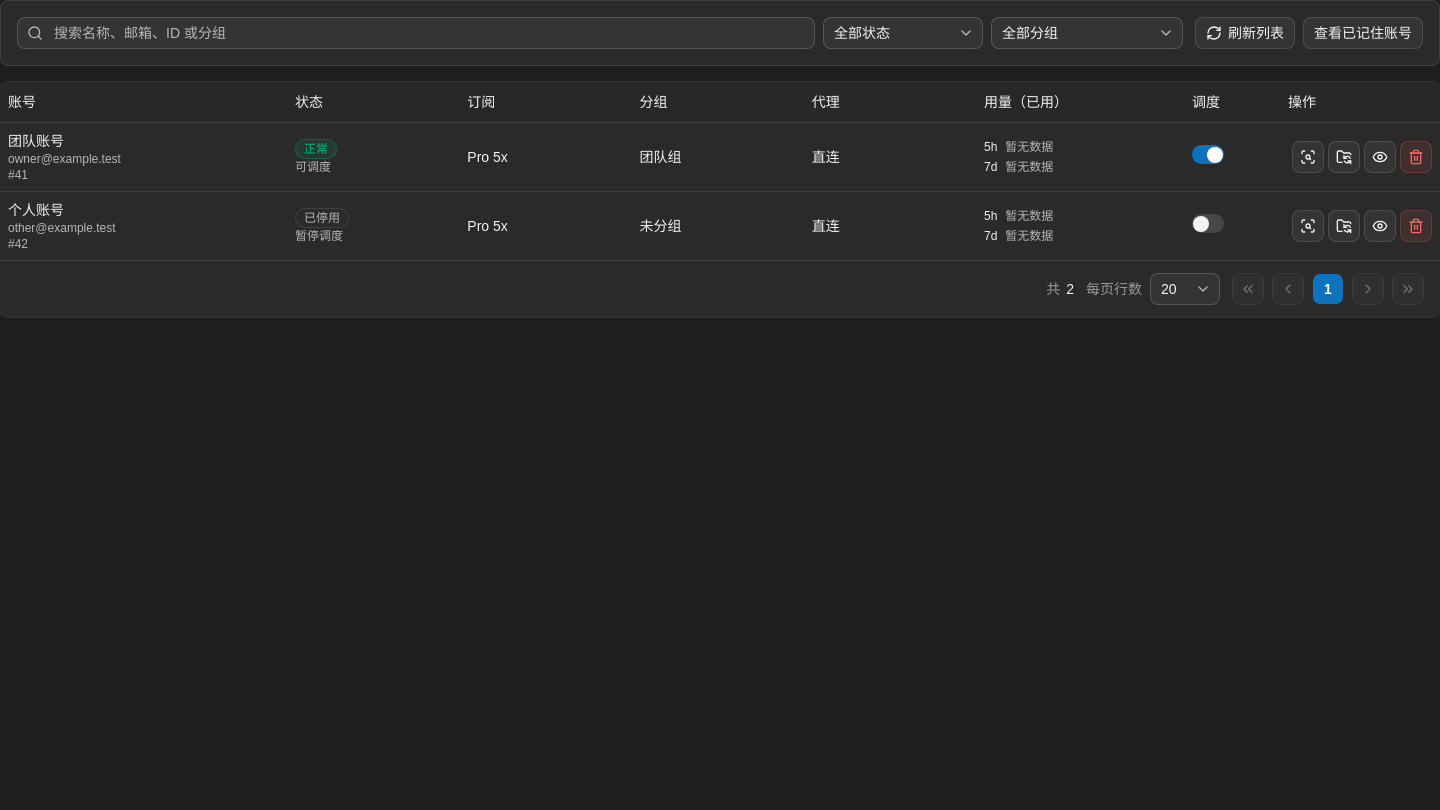
Test case: 邮箱搜索筛出对应账号并能打开完整只读配置
In the search field named "搜索账号": (416, 33) [17,17,815,49], type "OWNER@"
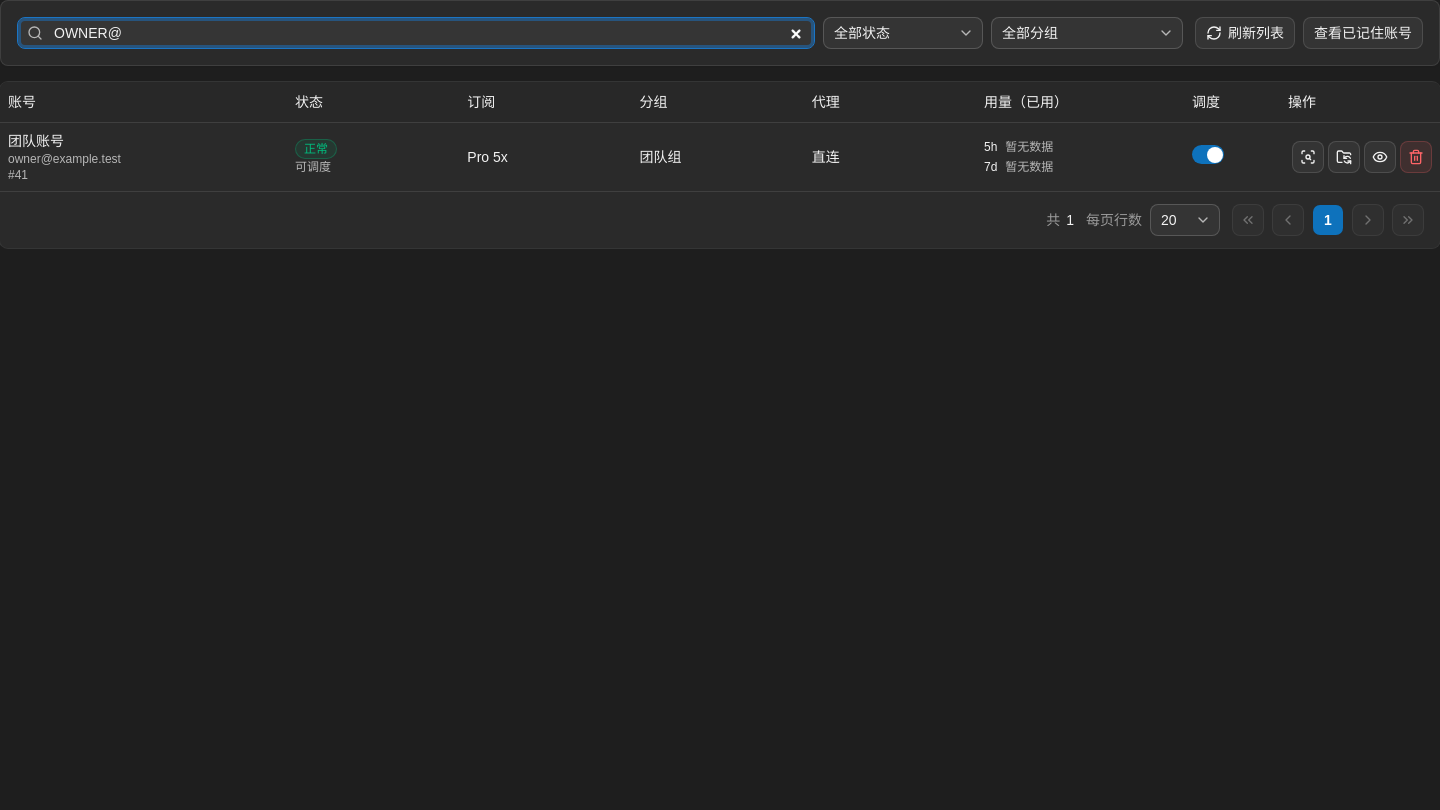
Expected: the text "团队账号" is shown, [8,132,64,148]
Expected: the text "个人账号" is gone
Click the button named "查看 团队账号 配置": (1380, 156) [1364,140,1396,172]
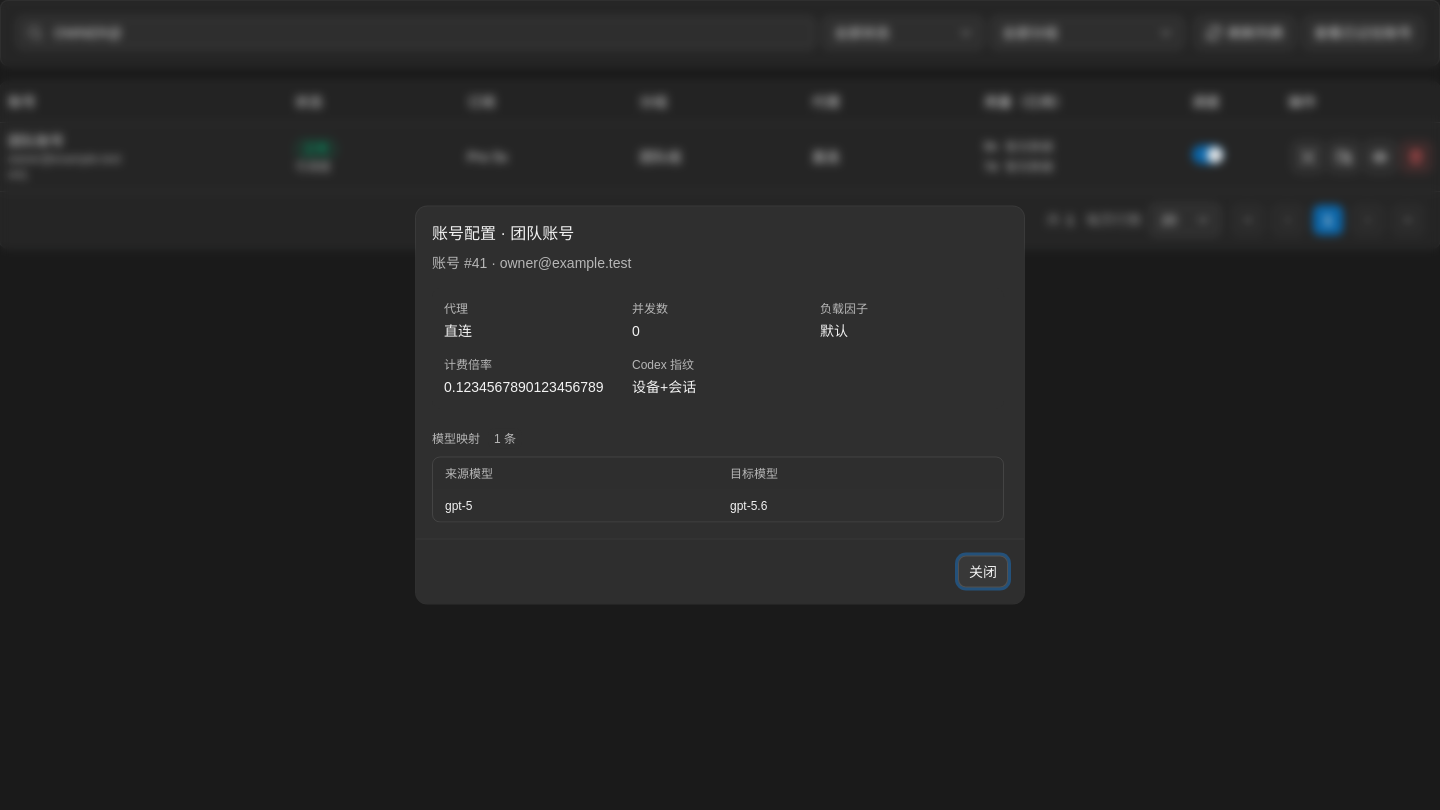
Expected: the row "gpt-5 gpt-5.6" is shown, [433,490,1003,522]
Expected: the text "设备+会话" is shown, [632,378,696,394]
Expected: the text "0.1234567890123456789" is shown, [444,376,616,396]
Press Escape
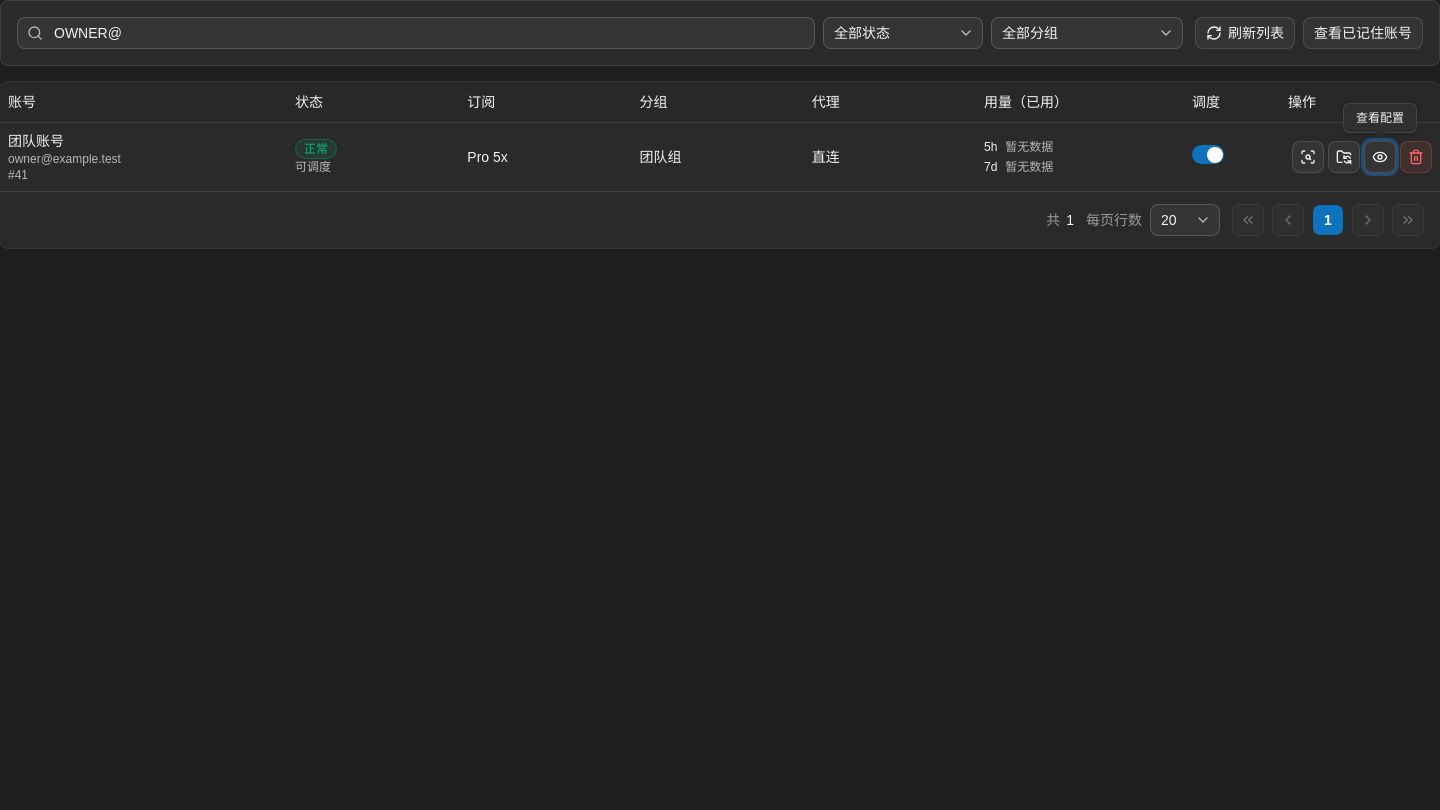
Expected: the dialog is gone
